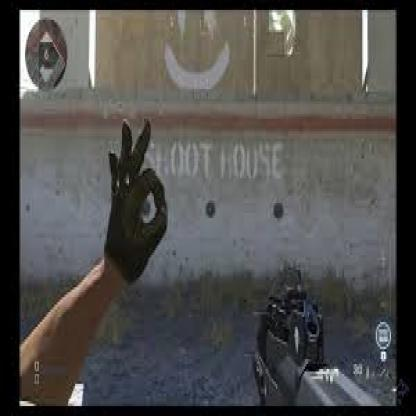ok: (105, 113, 169, 272)
